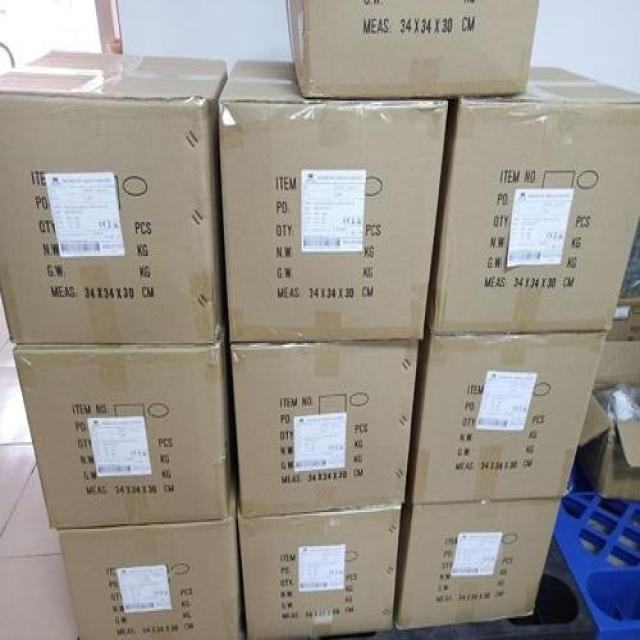Carton: (0, 49, 230, 346), (221, 104, 440, 343), (436, 104, 639, 331), (56, 517, 399, 638), (9, 350, 227, 527), (230, 346, 420, 512), (412, 341, 603, 500), (283, 0, 539, 99), (397, 505, 556, 626)
